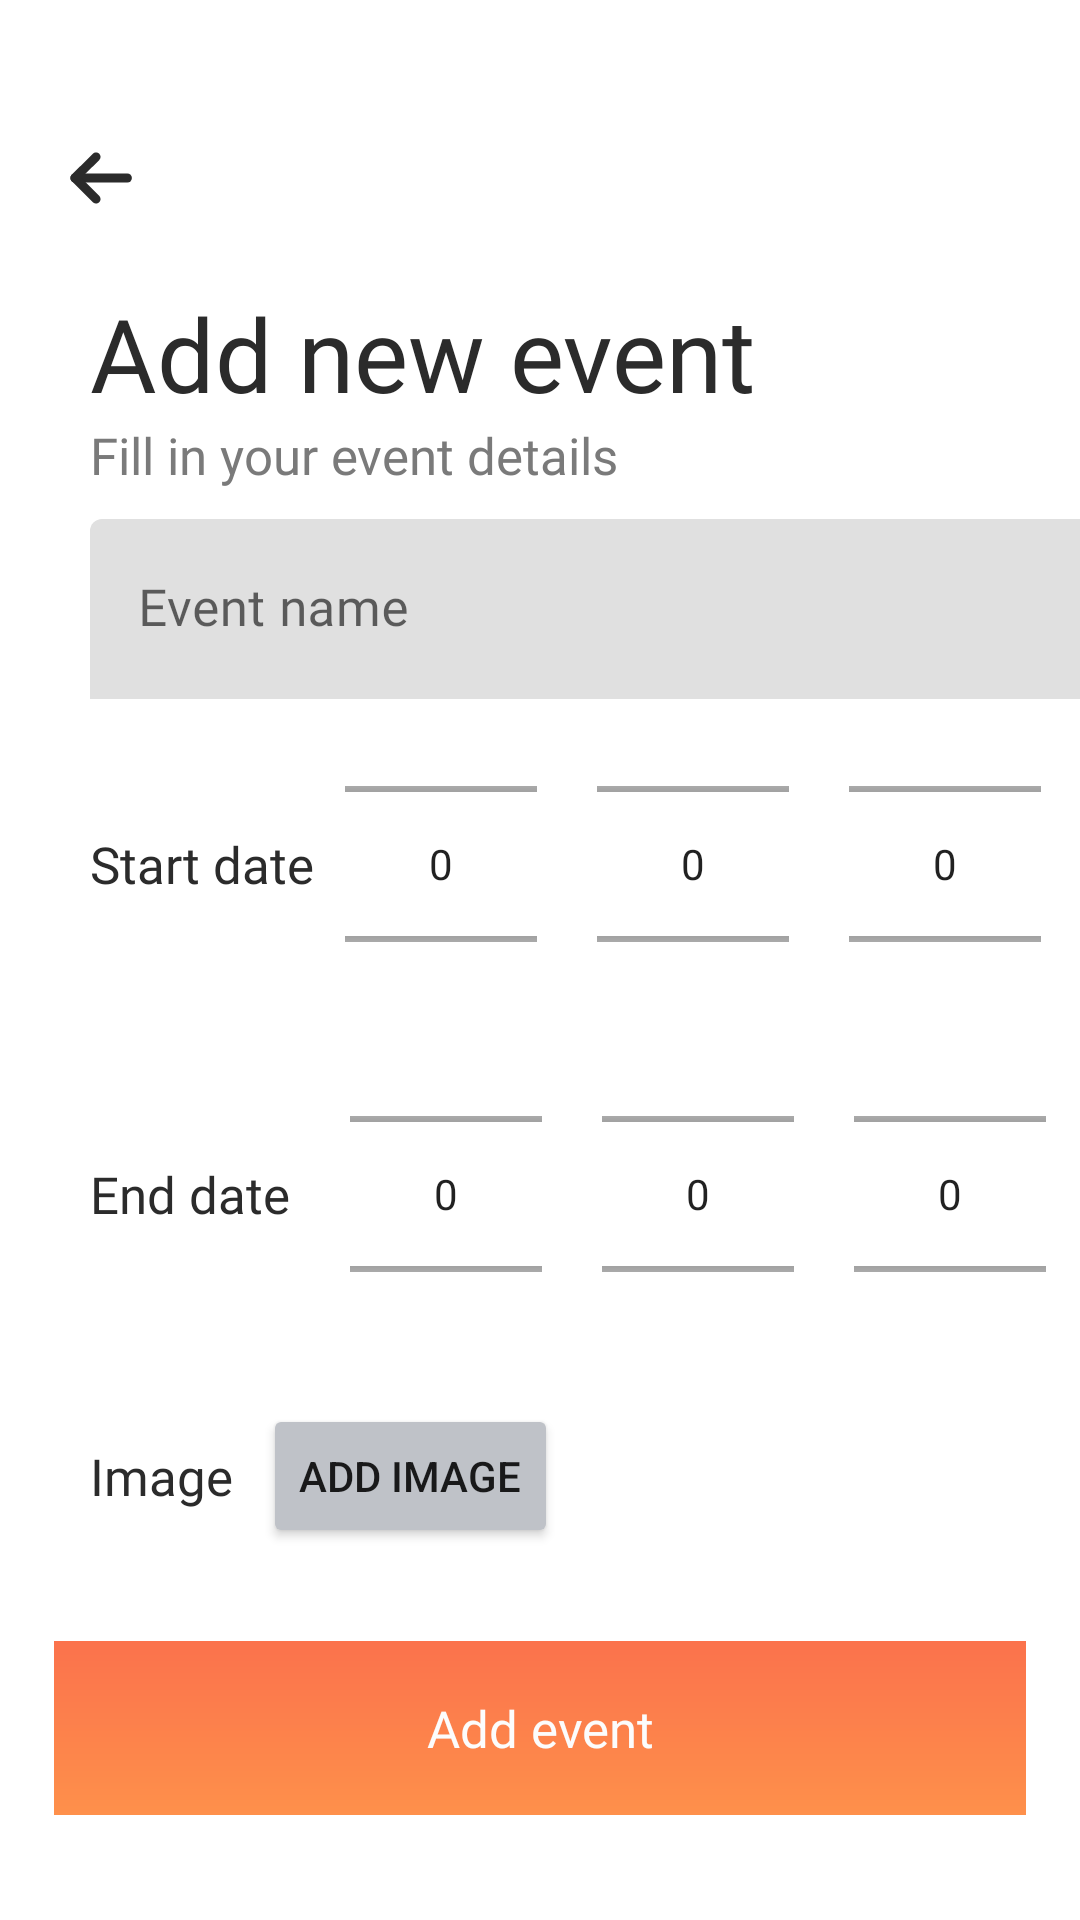

Point at icon controls on the screen. Image size 1080x1920, points as (x,y).
return: (101,178)
